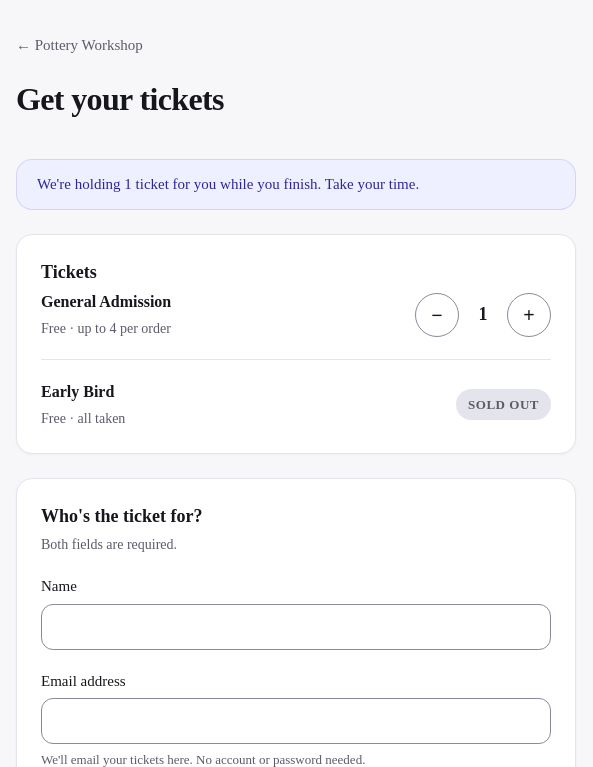
Test case: Checkout component (S2-2) › preselects 1 for first available ticket type and updates stepper count on click (Row 2.2)
Expected: the text "1" is shown, [478,304,488,324]
Increment to 2
Step 1. Click the button named "Increase quantity for General Admission" → click(529, 314), box [507,292,551,336]
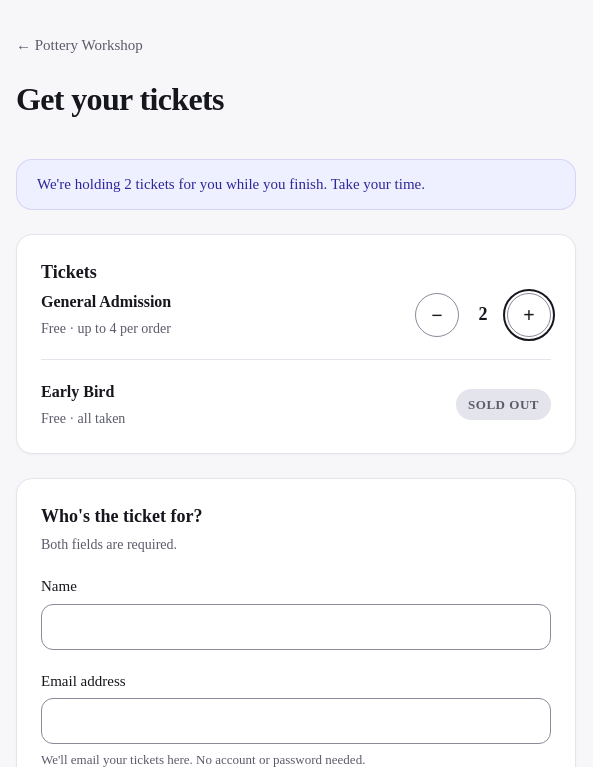
Expected: the text "2" is shown, [478,304,488,324]
Step 2. Click the button named "Decrease quantity for General Admission" → click(437, 314), box [415,292,459,336]
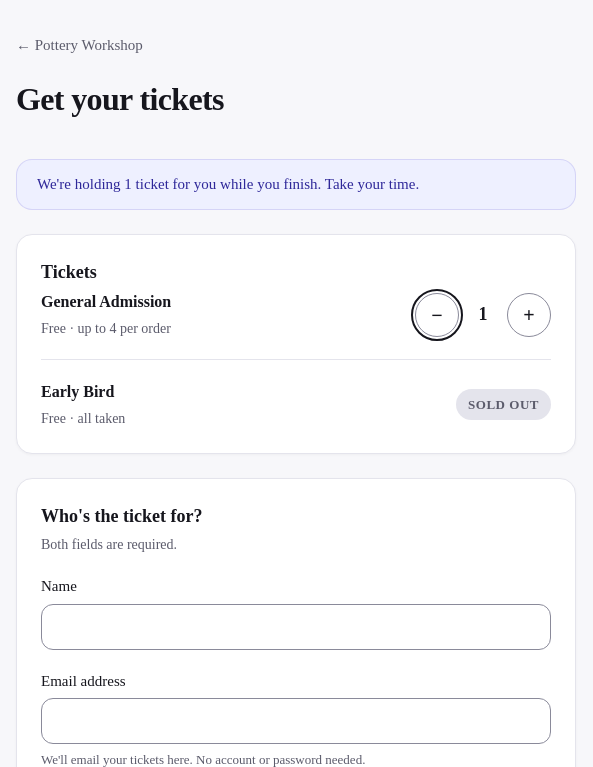
Step 3. Click the button named "Decrease quantity for General Admission" → click(437, 314), box [415,292,459,336]
(page scrolled)
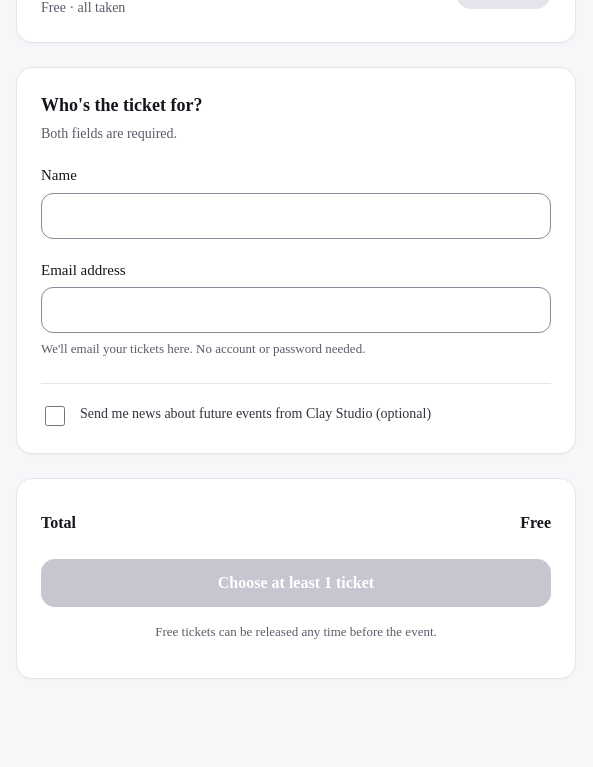
Result: the button "Choose at least 1 ticket" is disabled at [41,558,551,606]
